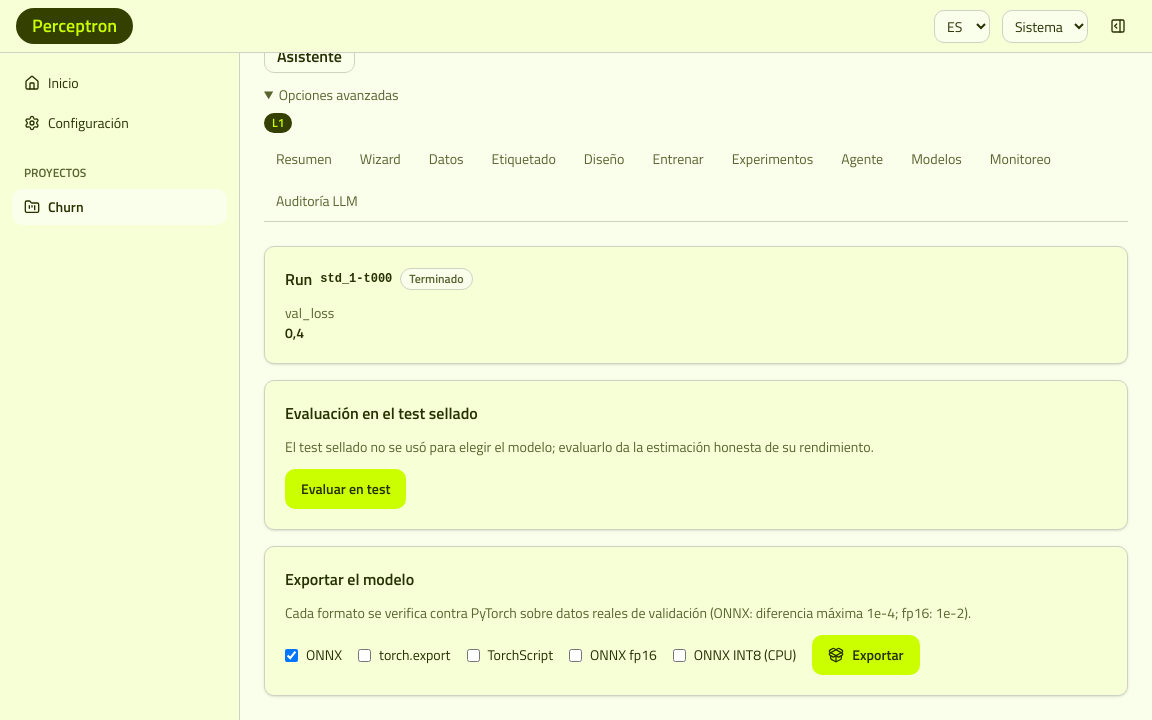
export y playground (Capa 4a) › exporta, muestra la verificación y predice en el playground
(page scrolled)
Click the checkbox labelled "ONNX INT8 (CPU)" at {"x": 679, "y": 655}, box [673,648,686,662]
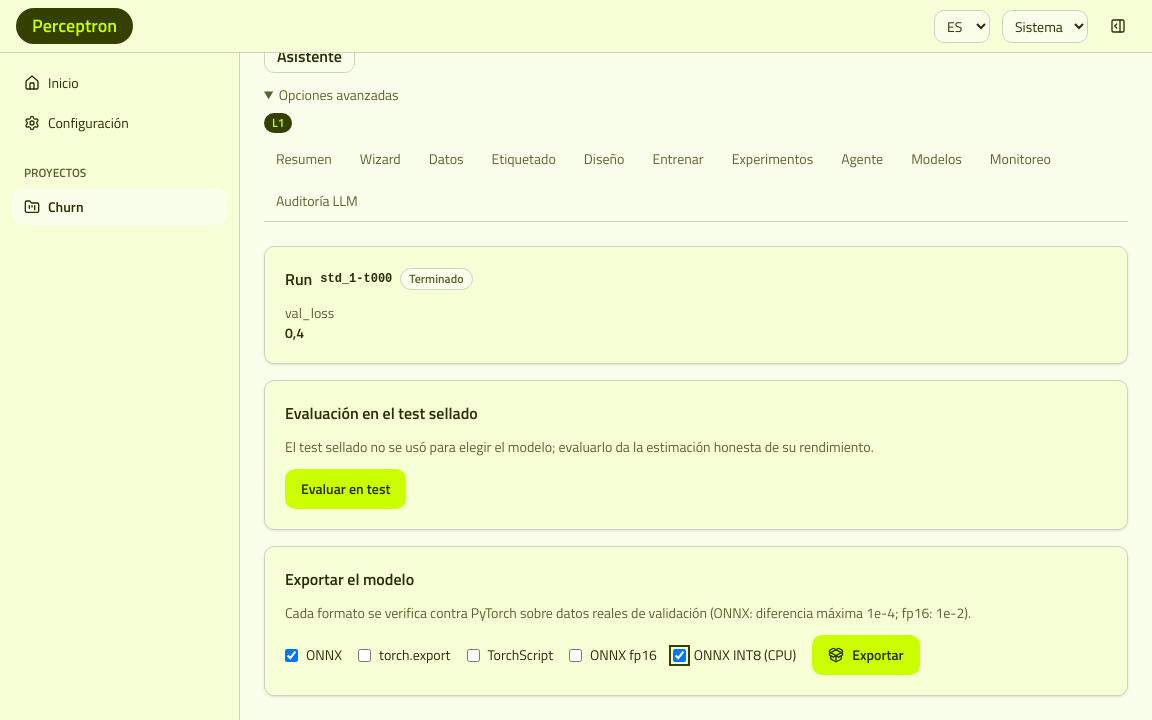
Click the button "Exportar" at {"x": 866, "y": 655}, box [812,635,920,675]
(page scrolled)
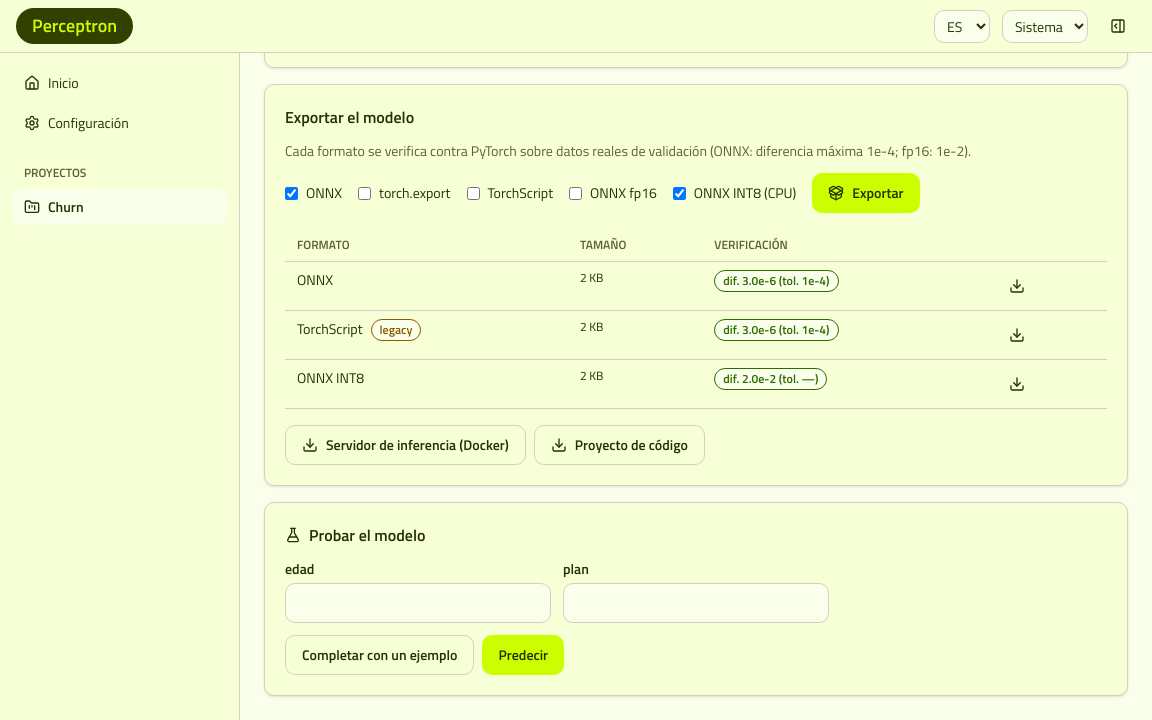
Now the text "legacy" is shown, box [371,319,421,341]
Now the text "dif. 3.0e-6 (tol. 1e-4)" is shown 2 times, box [714,270,838,292]; [714,319,838,341]
Now the text "dif. 2.0e-2 (tol. —)" is shown, box [714,368,827,390]
Note: Playground: completar con un ejemplo y predecir.
Click the button "Completar con un ejemplo" at {"x": 380, "y": 655}, box [285,635,474,675]
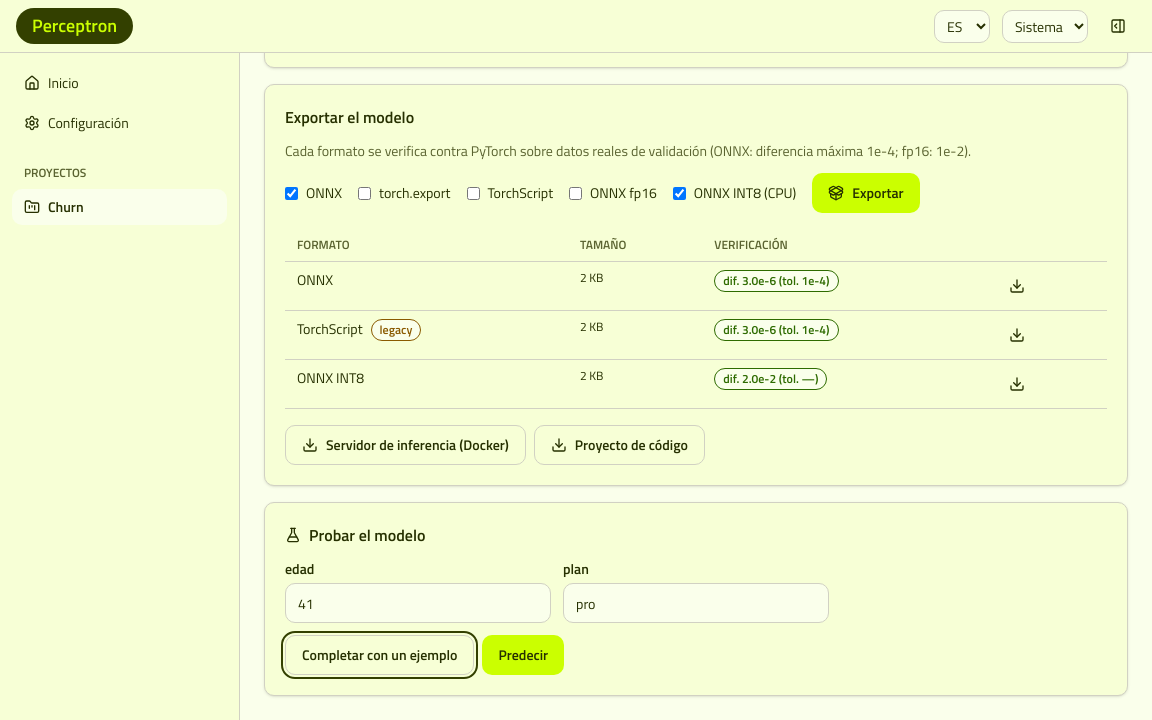
Now the field labelled "edad" holds "41", box [285,583,551,623]
Click the button "Predecir" at {"x": 523, "y": 655}, box [482,635,564,675]
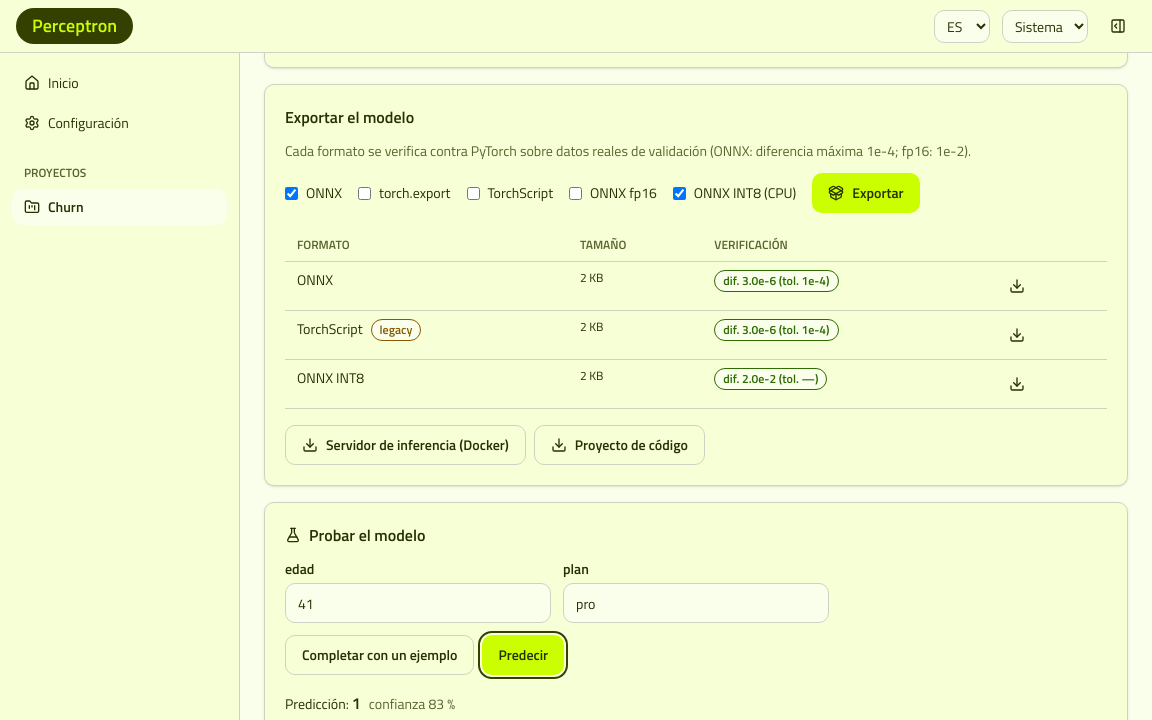
Now the text "confianza 83 %" is shown, box [369,693,455,714]
